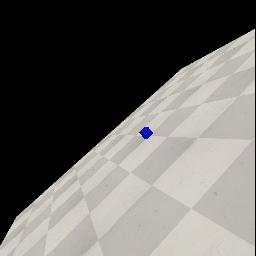box: (139, 127, 153, 139)
